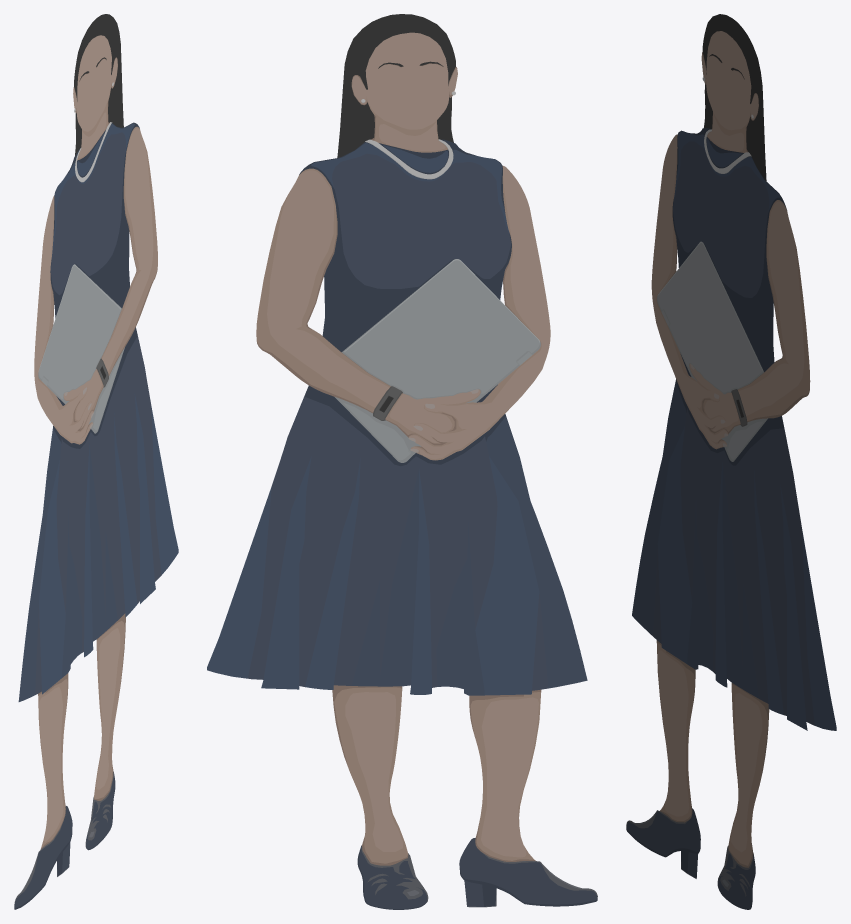
File: mieszkanie.glb
The picture shows the model from 3 angles, left to right: view 1: azimuth 30°, elevation 25°; view 2: azimuth 150°, elevation 25°; view 3: azimuth 270°, elevation 25°; orthographic projection. The views are drawn at different scales.
Parts seen in each view (by area): view 1: Geom3D (×13); view 2: Geom3D (×13); view 3: Geom3D (×13).
Boxes of the visible parts, x1,y1,x2,y2 form: Geom3D (×13): [14, 14, 178, 909]; Geom3D (×13): [207, 14, 597, 909]; Geom3D (×13): [626, 14, 836, 909].
Size of the model in its own units: 0.5292 by 1.59 by 0.3431.
